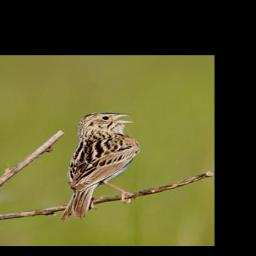Sparrow: (59, 110, 142, 222)
